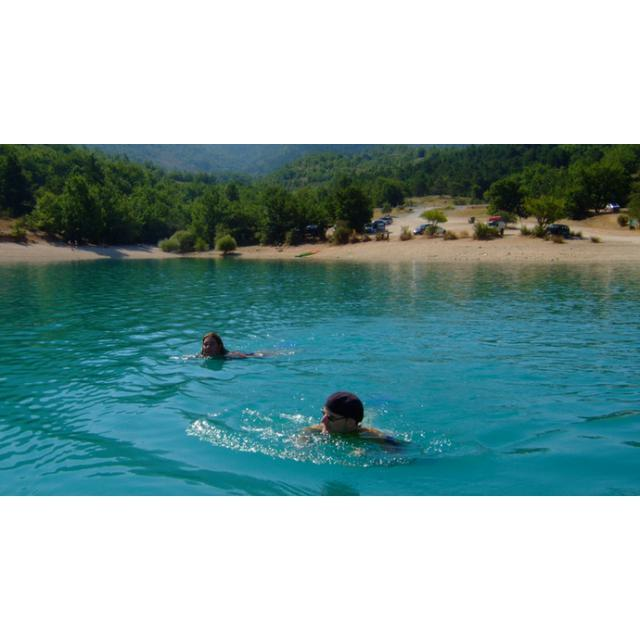human: (296, 390, 407, 447), (195, 328, 263, 362)
